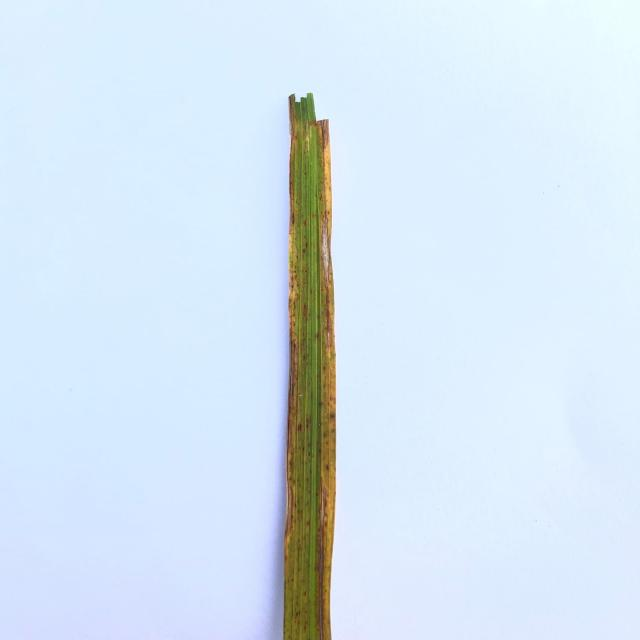tungro: (318, 122, 339, 640)
